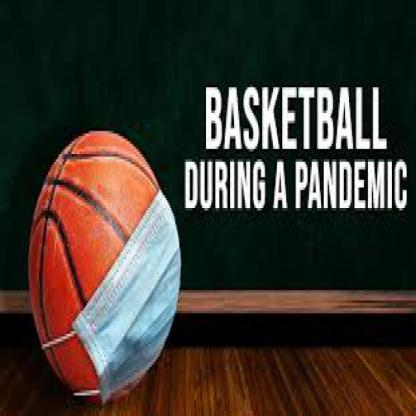basketball: (30, 131, 172, 406)
